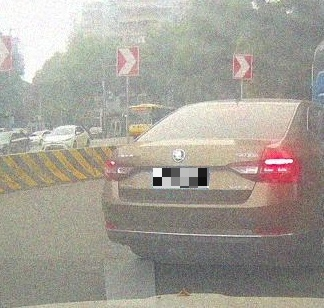L_light: (104, 158, 130, 181)
R_light: (260, 157, 295, 180)
T_light: (225, 104, 249, 108)
day-right: (101, 100, 298, 278)
plate_1: (153, 168, 209, 188)
